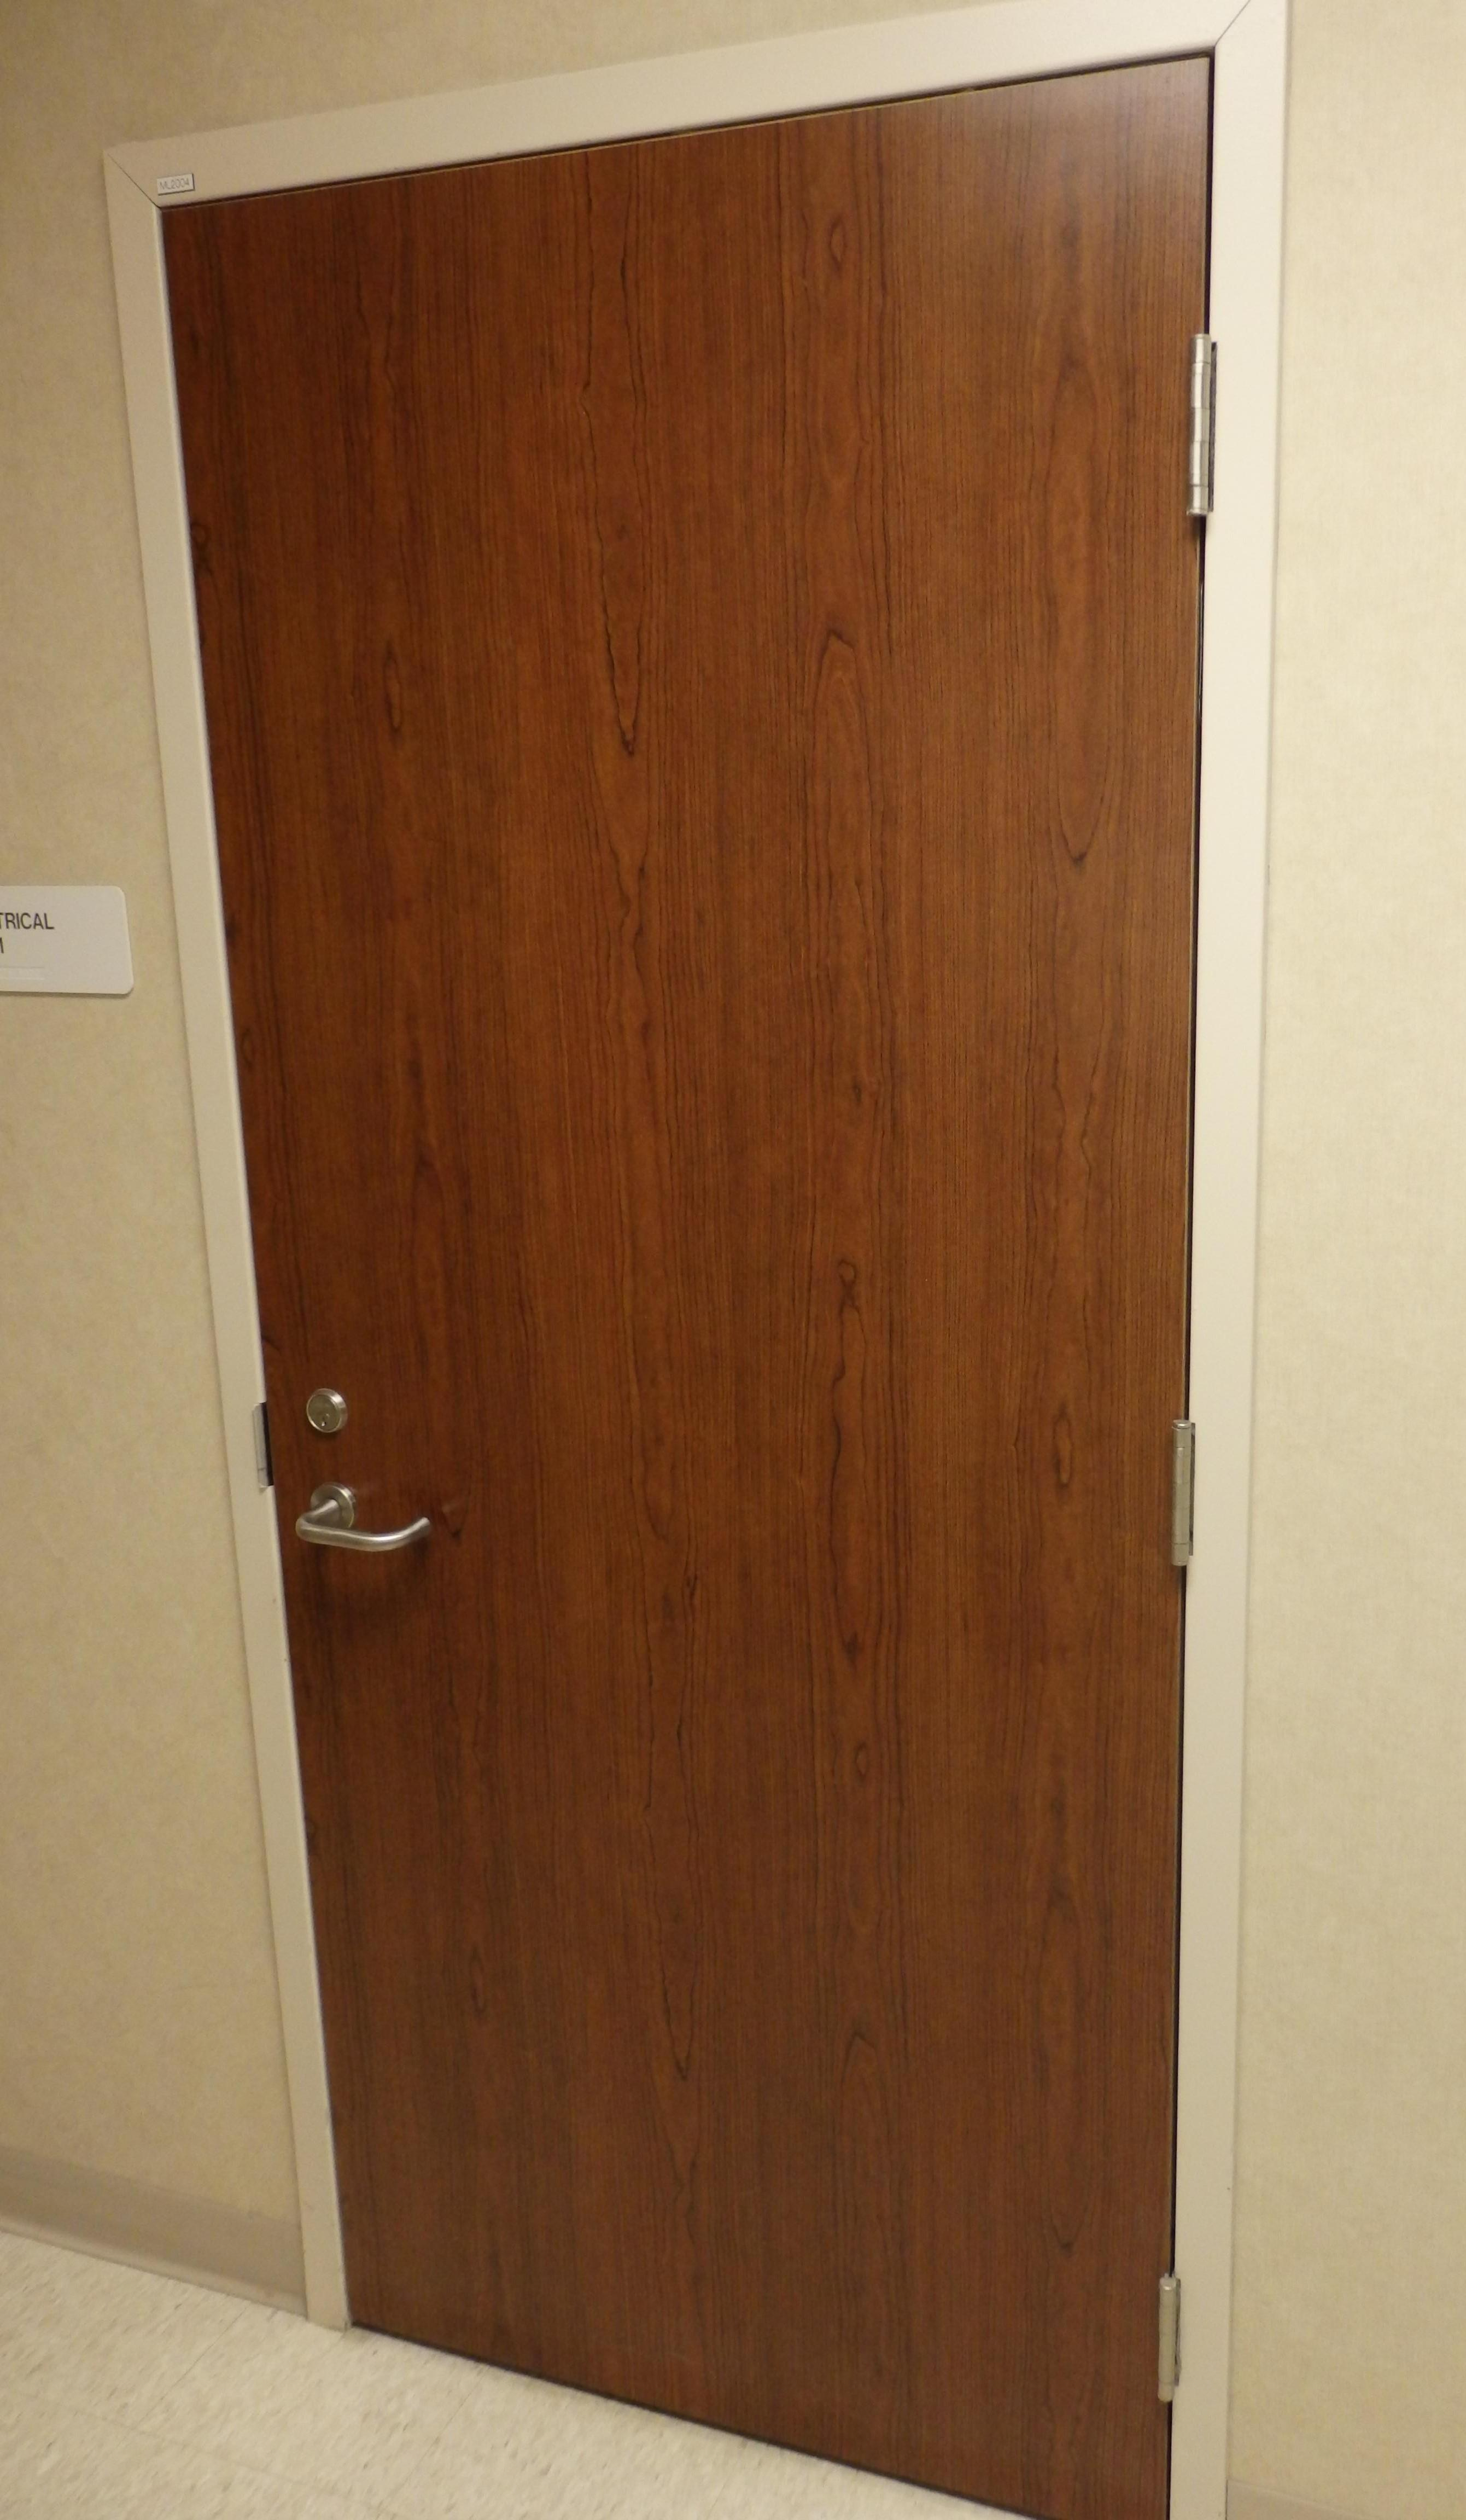door: (145, 56, 1230, 2464)
